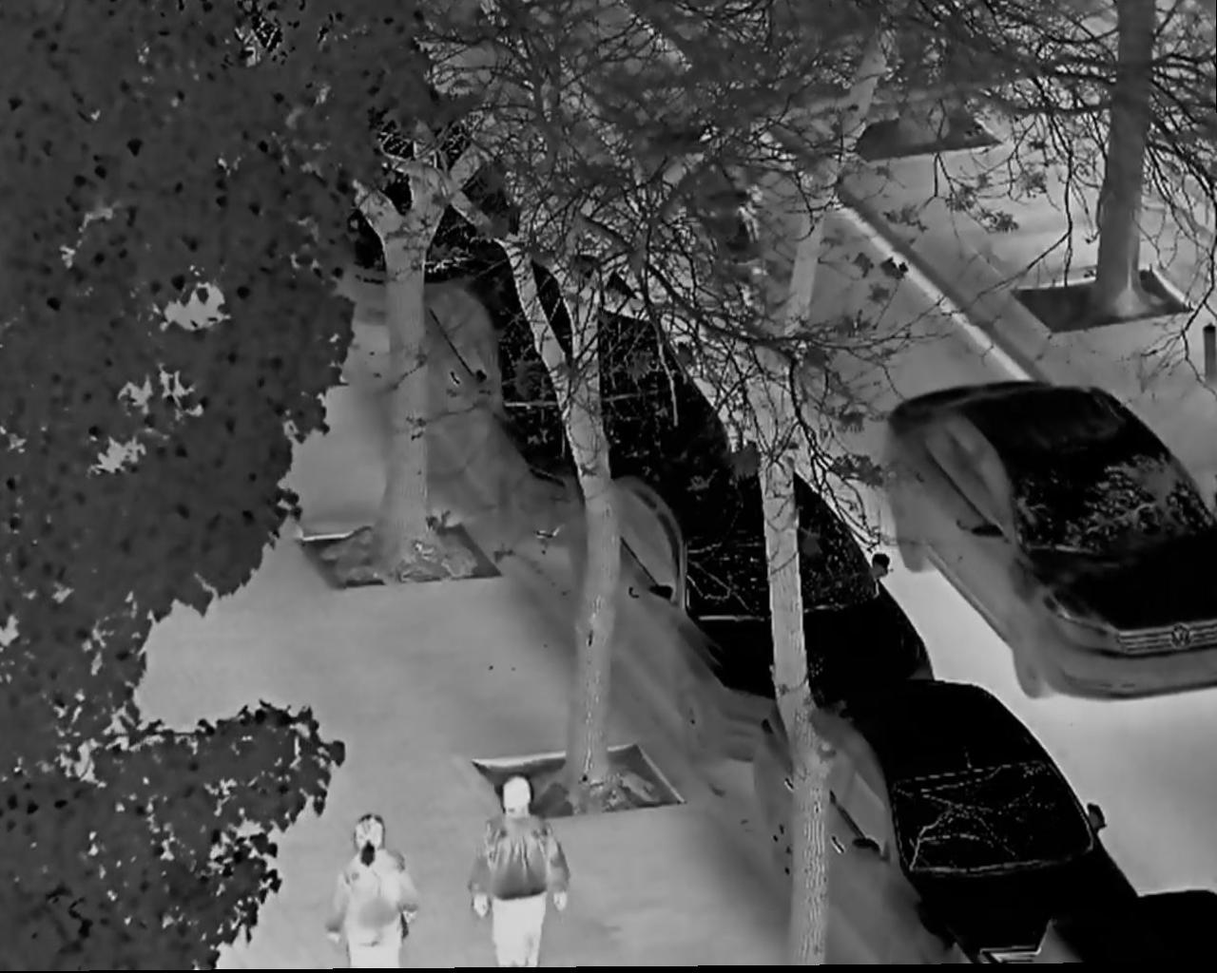person: (471, 775, 577, 973), (329, 815, 421, 973)
